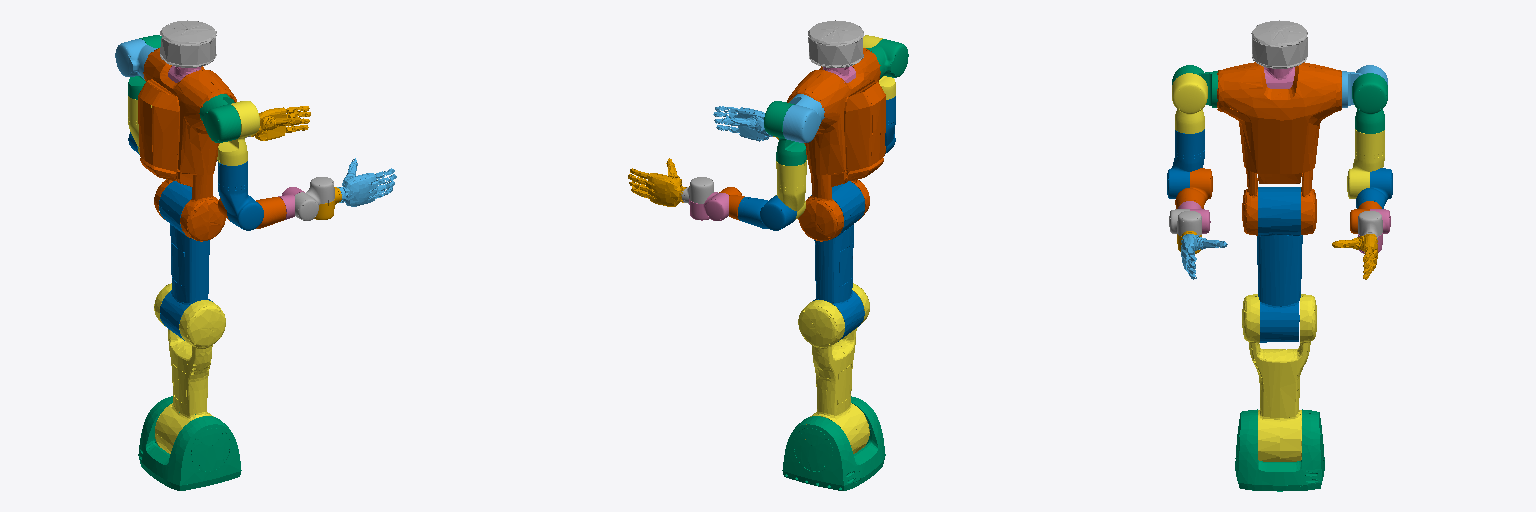
robot.urdf — M1_description:
<robot name="M1_description">
	<link name="world" />
	<joint name="amrToWorld" type="fixed">
		<parent link="world" />
		<child link="amr" />
		<origin xyz="0 0 0" rpy="0 0 0" />
	</joint>
	<link name="amr">
		<inertial>
			<origin xyz="0 0 0.232172" rpy="0 0 0" />
			<mass value="90" />
			<inertia ixx="2.64" ixy="0" ixz="0" iyy="4.749375" iyz="0" izz="6" />
		</inertial>
		<visual>
			<origin xyz="0 0 0" rpy="0 0 0" />
			<geometry>
				<mesh filename="meshes/visual/amr.obj" />
			</geometry>
		</visual>
		
	</link>
	<!-- body -->
	<!-- <joint name="legJoint1" type="revolute">
		<origin xyz="0 0 0.425" rpy="0 0 3.1415926535" />
		<parent link="amr" />
		<child link="legPart1" />
		<axis xyz="0 0 1" />
		<limit lower="-1.57079632679" upper="1.57079632679" effort="373.52" velocity="2.61799387799" />
	</joint> -->
	<joint name="legJoint1" type="fixed">
		<origin xyz="0 0 0.425" rpy="0 0 3.1415926535" />
		<parent link="amr" />
		<child link="legPart1" />
		<axis xyz="0 0 1" />
	</joint>
	<link name="legPart1">
		<inertial>
			<origin xyz="0.000002 0.005846 -0.062588" rpy="0 0 0" />
			<mass value="11.613852" />
			<inertia ixx="0.134835" ixy="0.00003" ixz="0.000002" iyy="0.110029" iyz="-0.005723" izz="0.126495" />
		</inertial>
		<visual>
			<origin xyz="0 0 0" rpy="0 0 0" />
			<geometry>
				<mesh filename="meshes/visual/legPart1.obj" />
			</geometry>
		</visual>
		
	</link>
	<joint name="legJoint2" type="revolute">
		<origin xyz="0 0 0" rpy="1.57079632679 -1.57079632679 0" />
		<parent link="legPart1" />
		<child link="legPart2" />
		<axis xyz="0 0 1" />
		<limit lower="-1.57079632679" upper="1.57079632679" effort="373.52" velocity="2.61799387799" />
	</joint>
	<link name="legPart2">
		<inertial>
			<origin xyz="0.11411 0.000307 -0.001045" rpy="0 0 0" />
			<mass value="13.744774" />
			<inertia ixx="0.059145" ixy="0.000111" ixz="-0.032784" iyy="0.4184" iyz="-0.000168" izz="0.407169" />
		</inertial>
		<visual>
			<origin xyz="0 0 0" rpy="0 0 0" />
			<geometry>
				<mesh filename="meshes/visual/legPart2.obj" />
			</geometry>
		</visual>
		
	</link>
	<joint name="legJoint3" type="revolute">
		<origin xyz="0.4 0 0" rpy="0 0 0" />
		<parent link="legPart2" />
		<child link="legPart3" />
		<axis xyz="0 0 1" />
		<limit lower="-2.2689280275926285" upper="2.2689280275926285" effort="213.44" velocity="2.61799387799" />
	</joint>
	<link name="legPart3">
		<inertial>
			<origin xyz="0.179947 0.000187 0.006275" rpy="0 0 0" />
			<mass value="13.708393" />
			<inertia ixx="0.035331" ixy="-0.000054" ixz="0.000019" iyy="0.405105" iyz="0.000024" izz="0.40264" />
		</inertial>
		<visual>
			<origin xyz="0 0 0" rpy="0 0 0" />
			<geometry>
				<mesh filename="meshes/visual/legPart3.obj" />
			</geometry>
		</visual>
		
	</link>
	<joint name="torsoJoint" type="revolute">
		<origin xyz="0.356 0 0" rpy="0 0 -0.01891027513" />
		<parent link="legPart3" />
		<child link="torso" />
		<axis xyz="0 0 1" />
		<limit lower="-2.007128639793479" upper="2.2689280275926285" effort="213.44" velocity="2.61799387799" />
	</joint>
	<link name="torso">
		<inertial>
			<origin xyz="0.24305 -0.009123 0.004726" rpy="0 0 0" />
			<mass value="12.38139" />
			<inertia ixx="0.09093" ixy="0.006422" ixz="0.017921" iyy="0.344675" iyz="-0.000462" izz="0.304787" />
		</inertial>
		<visual>
			<origin xyz="0 0 0" rpy="0 0 0" />
			<geometry>
				<mesh filename="meshes/visual/torso.obj" />
			</geometry>
		</visual>
		
	</link>
	<joint name="headJoint1" type="revolute">
		<origin xyz="0.42307564335 0 0" rpy="0 0 1.58970660193" />
		<parent link="torso" />
		<child link="headPart1" />
		<axis xyz="0 0 1" />
		<limit lower="-1.0471975511965976" upper="1.0471975511965976" effort="10.17" velocity="2.09439510239" />
	</joint>
	<link name="headPart1">
		<inertial>
			<origin xyz="-0.000651 -0.017552 -0.002915" rpy="0 0 0" />
			<mass value="1.414234" />
			<inertia ixx="0.003102" ixy="-0.000085" ixz="0.000027" iyy="0.001713" iyz="-0.000071" izz="0.003097" />
		</inertial>
		<visual>
			<origin xyz="0 0 0" rpy="0 0 0" />
			<geometry>
				<mesh filename="meshes/visual/headPart1.obj" />
			</geometry>
		</visual>
		
	</link>
	<joint name="headJoint2" type="fixed">
		<origin xyz="0 -0.0845 0" rpy="1.57079632679 0 0" />
		<parent link="headPart1" />
		<child link="headPart2" />
	</joint>
	<link name="headPart2">
		<inertial>
			<origin xyz="0.015247 0.000043 0.021722" rpy="0 0 0" />
			<mass value="1.417321" />
			<inertia ixx="0.002403" ixy="-0.000015" ixz="-0.000095" iyy="0.003361" iyz="0.000009" izz="0.003864" />
		</inertial>
		<visual>
			<origin xyz="0 0 0" rpy="0 0 0" />
			<geometry>
				<mesh filename="meshes/visual/headPart2.obj" />
			</geometry>
		</visual>
		
	</link>
	<joint name="cameraJoint" type="fixed">
		<origin xyz="0.05 0 0.05" rpy="0 0 0" />
		<parent link="headPart2" />
		<child link="headEE" />
	</joint>
	<link name="headEE">
		<inertial>
			<mass value="0.001" />
			<inertia ixx="0.001418" ixy="-0.00001" ixz="-0.000098" iyy="0.002781" iyz="-0.00023" izz="0.002407" />
		</inertial>
	</link>
	<joint name="leftArmJoint1" type="revolute">
		<origin xyz="0.401 0 0.2719" rpy="3.1415926535 3.1415926535 0.01891027513" />
		<parent link="torso" />
		<child link="leftArmPart2" />
		<axis xyz="0 0 -1" />
		<limit lower="-1.04719755120" upper="3.1415926535" effort="94.19" velocity="2.09439510239" />
	</joint>
	<link name="leftArmPart2">
		<inertial>
			<origin xyz="-0.000047 0.011856 -0.098523" rpy="0 0 0" />
			<mass value="3.526394" />
			<inertia ixx="0.02009" ixy="0.000002" ixz="-0.000007" iyy="0.019266" iyz="-0.004048" izz="0.006299" />
		</inertial>
		<visual>
			<origin xyz="0 0 0" rpy="0 0 0" />
			<geometry>
				<mesh filename="meshes/visual/armPart2.obj" />
			</geometry>
		</visual>
		
	</link>
	<joint name="leftArmJoint2" type="revolute">
		<origin xyz="0 0 0" rpy="1.57079632679 1.57079632679 0" />
		<parent link="leftArmPart2" />
		<child link="leftArmPart3" />
		<axis xyz="0 0 1" />
		<limit lower="-0.17453292520" upper="3.1415926535" effort="94.22" velocity="2.09439510239" />
	</joint>
	<link name="leftArmPart3">
		<inertial>
			<origin xyz="-0.000026 0.052998 0.000594" rpy="0 0 0" />
			<mass value="3.63847" />
			<inertia ixx="0.021733" ixy="0.000012" ixz="0.000008" iyy="0.004645" iyz="0.00015" izz="0.021501" />
		</inertial>
		<visual>
			<origin xyz="0 0 0" rpy="0 0 0" />
			<geometry>
				<mesh filename="meshes/visual/armPart3.obj" />
			</geometry>
		</visual>
		
	</link>
	<joint name="leftArmJoint3" type="revolute">
		<origin xyz="0 0.3 0" rpy="-1.57079632679 -1.57079632679 0" />
		<parent link="leftArmPart3" />
		<child link="leftArmPart4" />
		<axis xyz="0 0 1" />
		<limit lower="-1.57079632679" upper="3.1415926535" effort="50.44" velocity="2.09439510239" />
	</joint>
	<link name="leftArmPart4">
		<inertial>
			<origin xyz="0.016828 0.003752 -0.04413" rpy="0 0 0" />
			<mass value="2.287815" />
			<inertia ixx="0.009198" ixy="-0.000107" ixz="-0.00171" iyy="0.009498" iyz="-0.000315" izz="0.003327" />
		</inertial>
		<visual>
			<origin xyz="0 0 0" rpy="0 0 0" />
			<geometry>
				<mesh filename="meshes/visual/armPart4.obj" />
			</geometry>
		</visual>
		
	</link>
	<joint name="leftArmJoint4" type="revolute">
		<origin xyz="0.0295 0 0" rpy="-1.57079632679 1.57079632679 0" />
		<parent link="leftArmPart4" />
		<child link="leftArmPart5" />
		<axis xyz="0 0 1" />
		<limit lower="-1.74532925199" upper="0.87266462600" effort="49.88" velocity="2.09439510239" />
	</joint>
	<link name="leftArmPart5">
		<inertial>
			<origin xyz="-0.017635 -0.057101 -0.0148" rpy="0 0 0" />
			<mass value="1.769561" />
			<inertia ixx="0.006735" ixy="-0.001221" ixz="0.000449" iyy="0.002484" iyz="0.001488" izz="0.006882" />
		</inertial>
		<visual>
			<origin xyz="0 0 0" rpy="0 0 0" />
			<geometry>
				<mesh filename="meshes/visual/armPart5.obj" />
			</geometry>
		</visual>
		
	</link>
	<joint name="leftArmJoint5" type="revolute">
		<origin xyz="-0.0295 -0.206 0" rpy="1.57079632679 3.1415926535 0" />
		<parent link="leftArmPart5" />
		<child link="leftArmPart6" />
		<axis xyz="0 0 1" />
		<limit lower="-1.57079632679" upper="1.57079632679" effort="18.69" velocity="2.09439510239" />
	</joint>
	<link name="leftArmPart6">
		<inertial>
			<origin xyz="-0.000113 -0.000743 -0.018297" rpy="0 0 0" />
			<mass value="1.081978" />
			<inertia ixx="0.001627" ixy="-0.000003" ixz="0.000004" iyy="0.001508" iyz="0.000035" izz="0.000806" />
		</inertial>
		<visual>
			<origin xyz="0 0 0" rpy="0 0 0" />
			<geometry>
				<mesh filename="meshes/visual/armPart6.obj" />
			</geometry>
		</visual>
		
	</link>
	<joint name="leftArmJoint6" type="revolute">
		<origin xyz="0 0 0" rpy="1.57079632679 0 0" />
		<parent link="leftArmPart6" />
		<child link="leftArmPart7" />
		<axis xyz="0 0 1" />
		<limit lower="-0.87266462600" upper="0.87266462600" effort="18.59" velocity="2.09439510239" />
	</joint>
	<link name="leftArmPart7">
		<inertial>
			<origin xyz="0.001532 0.05229 -0.009369" rpy="0 0 0" />
			<mass value="1.172559" />
			<inertia ixx="0.002421" ixy="-0.000035" ixz="-0.000017" iyy="0.001083" iyz="-0.000569" izz="0.002365" />
		</inertial>
		<visual>
			<origin xyz="0 0 0" rpy="0 0 0" />
			<geometry>
				<mesh filename="meshes/visual/armPart7.obj" />
			</geometry>
		</visual>
		
	</link>
	<joint name="leftArmJoint7" type="revolute">
		<origin xyz="0 0.078 0" rpy="1.57079632679 0 1.57079632679" />
		<parent link="leftArmPart7" />
		<child link="leftArmPart8" />
		<axis xyz="0 0 1" />
		<limit lower="-1.57079632679" upper="1.57079632679" effort="10.17" velocity="2.09439510239" />
	</joint>
	<link name="leftArmPart8">
		<inertial>
			<origin xyz="0.010811 0.000009 -0.023793" rpy="0 0 0" />
			<mass value="0.456147" />
			<inertia ixx="0.000324" ixy="0.0" ixz="-0.000109" iyy="0.000496" iyz="-0.0" izz="0.000472" />
		</inertial>
		<visual>
			<origin xyz="0 0 0" rpy="0 0 0" />
			<geometry>
				<mesh filename="meshes/visual/armPart8.obj" />
			</geometry>
		</visual>
		
	</link>
	<joint name="leftArmFlangeJoint" type="fixed">
		<origin xyz="0.066 0 0" rpy="0 0 0" />
		<parent link="leftArmPart8" />
		<child link="leftHand" />
		<axis xyz="0 0 1" />
	</joint>
	<link name="leftHand">
		<inertial>
			<origin xyz="0.096739 0.010824 0.000036" rpy="0 0 0" />
			<mass value="0.718846" />
			<!-- 转动惯量需要再修改 -->
			<inertia ixx="0.001418" ixy="-0.00001" ixz="-0.000098" iyy="0.002781" iyz="-0.00023" izz="0.002407" />
		</inertial>
		<visual>
			<origin xyz="0 0 0" rpy="0 0 0" />
			<geometry>
				<mesh filename="meshes/visual/leftHand.obj" />
			</geometry>
		</visual>
		
	</link>
	<joint name="leftArmEEJoint" type="fixed">
		<origin xyz="0.1 0 0" rpy="0 0 0" />
		<parent link="leftHand" />
		<child link="leftHandEE" />
	</joint>
	<link name="leftHandEE">
		<inertial>
			<mass value="5.0" />
			<inertia ixx="0.001418" ixy="-0.00001" ixz="-0.000098" iyy="0.002781" iyz="-0.00023" izz="0.002407" />
		</inertial>
	</link>
	<joint name="rightArmJoint1" type="revolute">
		<origin xyz="0.401 0 -0.2719" rpy="3.1415926535 0 0.01891027513" />
		<parent link="torso" />
		<child link="rightArmPart2" />
		<axis xyz="0 0 1" />
		<limit lower="-1.04719755120" upper="3.1415926535" effort="94.19" velocity="2.09439510239" />
	</joint>
	<link name="rightArmPart2">
		<inertial>
			<origin xyz="-0.000047 0.011856 -0.098523" rpy="0 0 0" />
			<mass value="3.526394" />
			<inertia ixx="0.02009" ixy="0.000002" ixz="-0.000007" iyy="0.019266" iyz="-0.004048" izz="0.006299" />
		</inertial>
		<visual>
			<origin xyz="0 0 0" rpy="0 0 0" />
			<geometry>
				<mesh filename="meshes/visual/armPart2.obj" />
			</geometry>
		</visual>
		
	</link>
	<joint name="rightArmJoint2" type="revolute">
		<origin xyz="0 0 0" rpy="1.57079632679 -1.57079632679 0" />
		<parent link="rightArmPart2" />
		<child link="rightArmPart3" />
		<axis xyz="0 0 -1" />
		<limit lower="-0.17453292520" upper="3.1415926535" effort="94.22" velocity="2.09439510239" />
	</joint>
	<link name="rightArmPart3">
		<inertial>
			<origin xyz="-0.000026 0.052998 0.000594" rpy="0 0 0" />
			<mass value="3.63847" />
			<inertia ixx="0.021733" ixy="0.000012" ixz="0.000008" iyy="0.004645" iyz="0.00015" izz="0.021501" />
		</inertial>
		<visual>
			<origin xyz="0 0 0" rpy="0 0 0" />
			<geometry>
				<mesh filename="meshes/visual/armPart3.obj" />
			</geometry>
		</visual>
		
	</link>
	<joint name="rightArmJoint3" type="revolute">
		<origin xyz="0 0.3 0" rpy="-1.57079632679 -1.57079632679 0" />
		<parent link="rightArmPart3" />
		<child link="rightArmPart4" />
		<axis xyz="0 0 -1" />
		<limit lower="-1.57079632679" upper="3.1415926535" effort="50.44" velocity="2.09439510239" />
	</joint>
	<link name="rightArmPart4">
		<inertial>
			<origin xyz="0.016828 0.003752 -0.04413" rpy="0 0 0" />
			<mass value="2.287815" />
			<inertia ixx="0.009198" ixy="-0.000107" ixz="-0.00171" iyy="0.009498" iyz="-0.000315" izz="0.003327" />
		</inertial>
		<visual>
			<origin xyz="0 0 0" rpy="0 0 0" />
			<geometry>
				<mesh filename="meshes/visual/armPart4.obj" />
			</geometry>
		</visual>
		
	</link>
	<joint name="rightArmJoint4" type="revolute">
		<origin xyz="0.0295 0 0" rpy="-1.57079632679 1.57079632679 0" />
		<parent link="rightArmPart4" />
		<child link="rightArmPart5" />
		<axis xyz="0 0 1" />
		<limit lower="-1.74532925199" upper="0.87266462600" effort="49.88" velocity="2.09439510239" />
	</joint>
	<link name="rightArmPart5">
		<inertial>
			<origin xyz="-0.017635 -0.057101 -0.0148" rpy="0 0 0" />
			<mass value="1.769561" />
			<inertia ixx="0.006735" ixy="-0.001221" ixz="0.000449" iyy="0.002484" iyz="0.001488" izz="0.006882" />
		</inertial>
		<visual>
			<origin xyz="0 0 0" rpy="0 0 0" />
			<geometry>
				<mesh filename="meshes/visual/armPart5.obj" />
			</geometry>
		</visual>
		
	</link>
	<joint name="rightArmJoint5" type="revolute">
		<origin xyz="-0.0295 -0.206 0" rpy="1.57079632679 0 0" />
		<parent link="rightArmPart5" />
		<child link="rightArmPart6" />
		<axis xyz="0 0 -1" />
		<limit lower="-1.57079632679" upper="1.57079632679" effort="18.69" velocity="2.09439510239" />
	</joint>
	<link name="rightArmPart6">
		<inertial>
			<origin xyz="-0.000113 -0.000743 -0.018297" rpy="0 0 0" />
			<mass value="1.081978" />
			<inertia ixx="0.001627" ixy="-0.000003" ixz="0.000004" iyy="0.001508" iyz="0.000035" izz="0.000806" />
		</inertial>
		<visual>
			<origin xyz="0 0 0" rpy="0 0 0" />
			<geometry>
				<mesh filename="meshes/visual/armPart6.obj" />
			</geometry>
		</visual>
		
	</link>
	<joint name="rightArmJoint6" type="revolute">
		<origin xyz="0 0 0" rpy="1.57079632679 0 0" />
		<parent link="rightArmPart6" />
		<child link="rightArmPart7" />
		<axis xyz="0 0 -1" />
		<limit lower="-0.87266462600" upper="0.87266462600" effort="18.59" velocity="2.09439510239" />
	</joint>
	<link name="rightArmPart7">
		<inertial>
			<origin xyz="0.001532 0.05229 -0.009369" rpy="0 0 0" />
			<mass value="1.172559" />
			<inertia ixx="0.002421" ixy="-0.000035" ixz="-0.000017" iyy="0.001083" iyz="-0.000569" izz="0.002365" />
		</inertial>
		<visual>
			<origin xyz="0 0 0" rpy="0 0 0" />
			<geometry>
				<mesh filename="meshes/visual/armPart7.obj" />
			</geometry>
		</visual>
		
	</link>
	<joint name="rightArmJoint7" type="revolute">
		<origin xyz="0 0.078 0" rpy="1.57079632679 0 1.57079632679" />
		<parent link="rightArmPart7" />
		<child link="rightArmPart8" />
		<axis xyz="0 0 1" />
		<limit lower="-1.57079632679" upper="1.57079632679" effort="10.17" velocity="2.09439510239" />
	</joint>
	<link name="rightArmPart8">
		<inertial>
			<origin xyz="0.010811 0.000009 -0.023793" rpy="0 0 0" />
			<mass value="0.456147" />
			<inertia ixx="0.000324" ixy="0.0" ixz="-0.000109" iyy="0.000496" iyz="-0.0" izz="0.000472" />
		</inertial>
		<visual>
			<origin xyz="0 0 0" rpy="0 0 0" />
			<geometry>
				<mesh filename="meshes/visual/armPart8.obj" />
			</geometry>
		</visual>
		
	</link>
	<joint name="rightArmFlangeJoint" type="fixed">
		<origin xyz="0.066 0 0" rpy="0 0 0" />
		<parent link="rightArmPart8" />
		<child link="rightHand" />
		<axis xyz="0 0 1" />
	</joint>
	<link name="rightHand">
		<inertial>
			<origin xyz="0.096739 0.010824 -0.000036" rpy="0 0 0" />
			<mass value="0.718846" />
			<inertia ixx="0.001418" ixy="-0.00001" ixz="-0.000098" iyy="0.002781" iyz="-0.00023" izz="0.002407" />
		</inertial>
		<visual>
			<origin xyz="0 0 0" rpy="0 0 0" />
			<geometry>
				<mesh filename="meshes/visual/rightHand.obj" />
			</geometry>
		</visual>
		
	</link>
	<joint name="rightArmEEJoint" type="fixed">
		<origin xyz="0.1 0 0" rpy="0 0 0" />
		<parent link="rightHand" />
		<child link="rightHandEE" />
	</joint>
	<link name="rightHandEE">
		<inertial>
			<mass value="10.0"/>
			<inertia ixx="0.001418" ixy="-0.00001" ixz="-0.000098" iyy="0.002781" iyz="-0.00023" izz="0.002407" />
		</inertial>
	</link>
</robot>

--- Render facts (derived) ---
Views: 3 orthographic renders of the robot side by side, from view 1: azimuth 30°, elevation 25°; view 2: azimuth 150°, elevation 25°; view 3: azimuth 270°, elevation 25°.
Model M1_description with 27 links and 26 joints (18 revolute, 8 fixed), rooted at world, posed all joints at 0.
Visible links, largest first — view 1: torso, legPart1, legPart2, legPart3, headPart2, rightArmPart4, rightHand, rightArmPart2, rightArmPart3, leftHand, rightArmPart7, leftArmPart2 (+1 smaller); view 2: torso, legPart2, legPart1, legPart3, headPart2, leftHand, leftArmPart2, leftArmPart5, leftArmPart3, rightHand, leftArmPart4, rightArmPart2 (+2 smaller); view 3: torso, legPart2, legPart3, legPart1, headPart2, leftArmPart3, rightArmPart3, rightArmPart4, leftArmPart4, rightArmPart5, leftArmPart5, rightHand (+6 smaller).
Boxes of the visible links, box(x1,y1,x2,y2) form: torso: box(138, 48, 236, 241); legPart1: box(138, 396, 241, 490); legPart2: box(154, 283, 225, 453); legPart3: box(159, 181, 212, 340); headPart2: box(160, 20, 216, 67); rightArmPart4: box(217, 160, 263, 230); rightHand: box(337, 158, 396, 206); rightArmPart2: box(199, 94, 240, 142); rightArmPart3: box(217, 101, 259, 165); leftHand: box(251, 106, 310, 140); rightArmPart7: box(295, 177, 334, 220); leftArmPart2: box(115, 39, 157, 79); torso: box(787, 48, 885, 241); legPart2: box(798, 283, 869, 453); legPart1: box(782, 396, 885, 490); legPart3: box(808, 181, 864, 341); headPart2: box(808, 20, 863, 67); leftHand: box(628, 158, 689, 206); leftArmPart2: box(783, 94, 824, 142); leftArmPart5: box(738, 195, 796, 230); leftArmPart3: box(764, 101, 806, 165); rightHand: box(713, 106, 772, 141); leftArmPart4: box(775, 160, 806, 219); rightArmPart2: box(866, 39, 908, 78); torso: box(1217, 62, 1341, 235); legPart2: box(1242, 294, 1316, 461); legPart3: box(1257, 187, 1302, 342); legPart1: box(1235, 409, 1324, 491); headPart2: box(1251, 20, 1307, 68); leftArmPart3: box(1352, 73, 1387, 133); rightArmPart3: box(1172, 73, 1207, 133); rightArmPart4: box(1167, 129, 1204, 198); leftArmPart4: box(1347, 129, 1384, 198); rightArmPart5: box(1175, 168, 1212, 208); leftArmPart5: box(1356, 168, 1392, 208); rightHand: box(1181, 234, 1227, 279).
Size in the robot's own frame: 0.7386 by 0.6835 by 1.49 metres.
22 mesh visuals loaded from 16 distinct referenced files (15 OBJ); not drawn: 1 (reference not matched to a file when rendering).